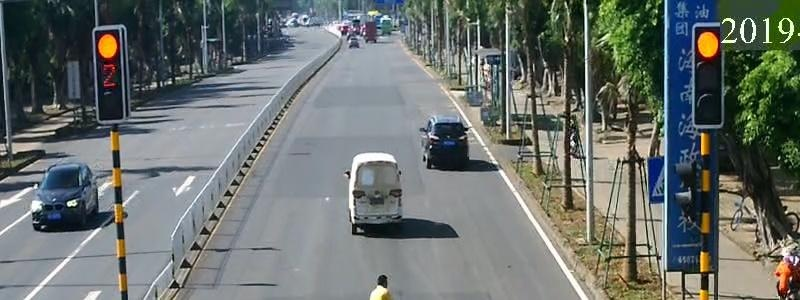red: (92, 29, 124, 62), (695, 26, 721, 65)
redtime: (92, 65, 130, 94)
